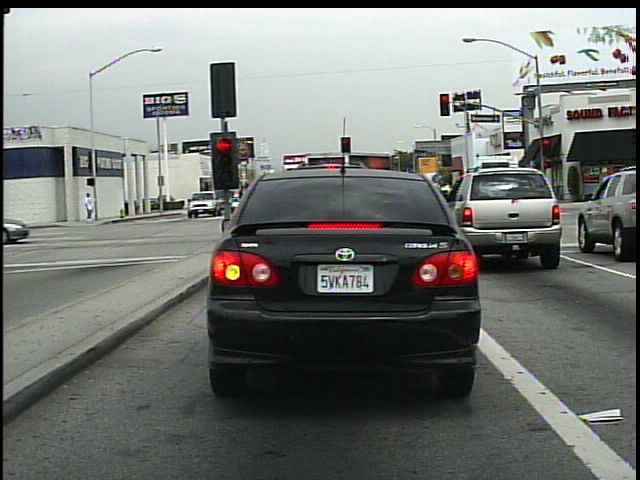person: (83, 191, 96, 223)
